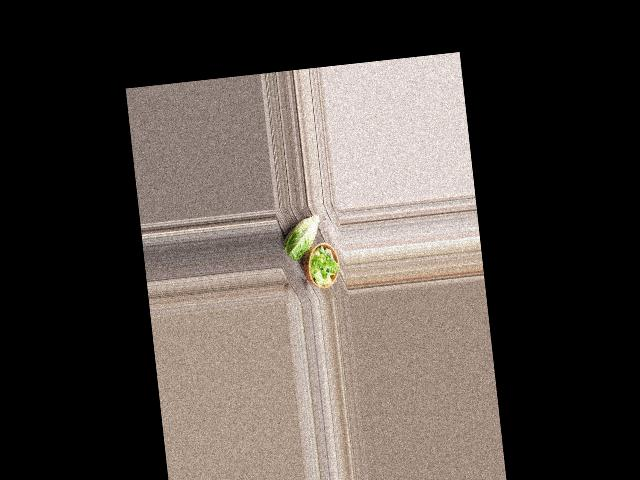lettuce: (279, 215, 323, 261)
